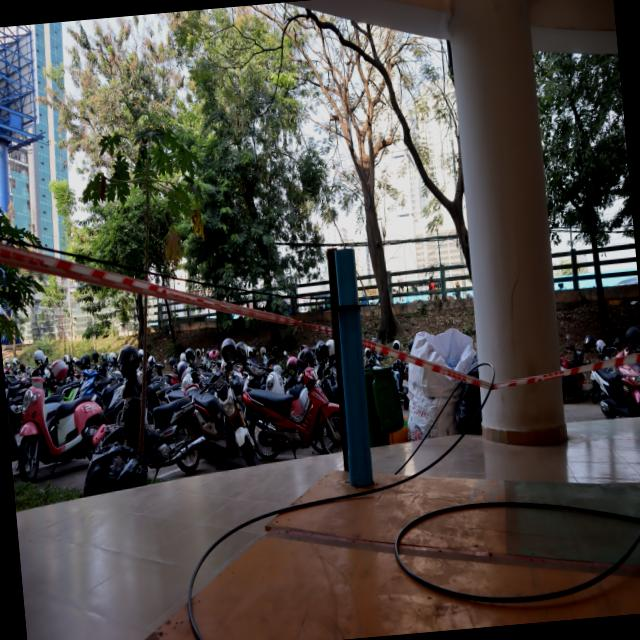pole: (314, 236, 379, 362)
